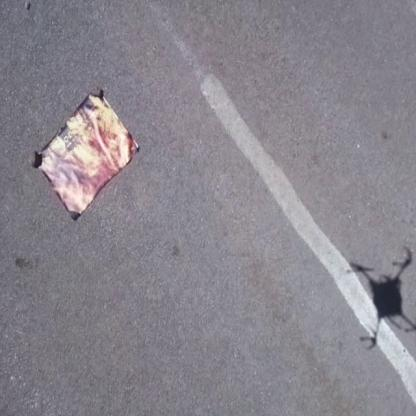fire-poster: (34, 85, 140, 222)
